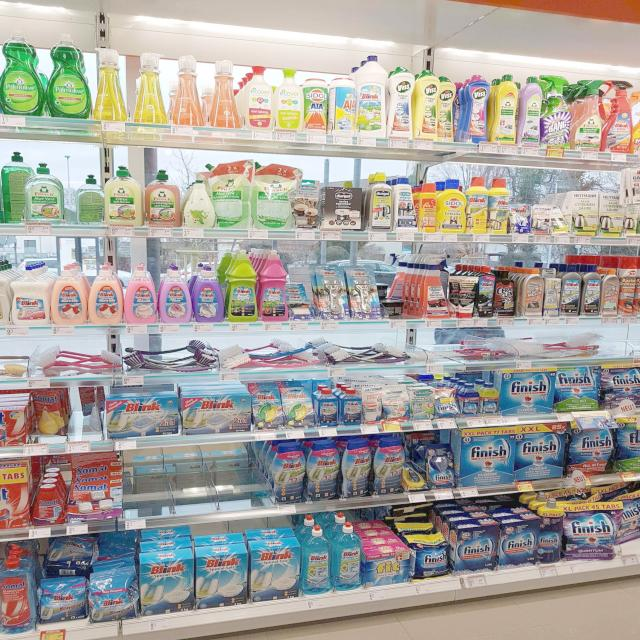empty_space: (128, 451, 268, 501)
